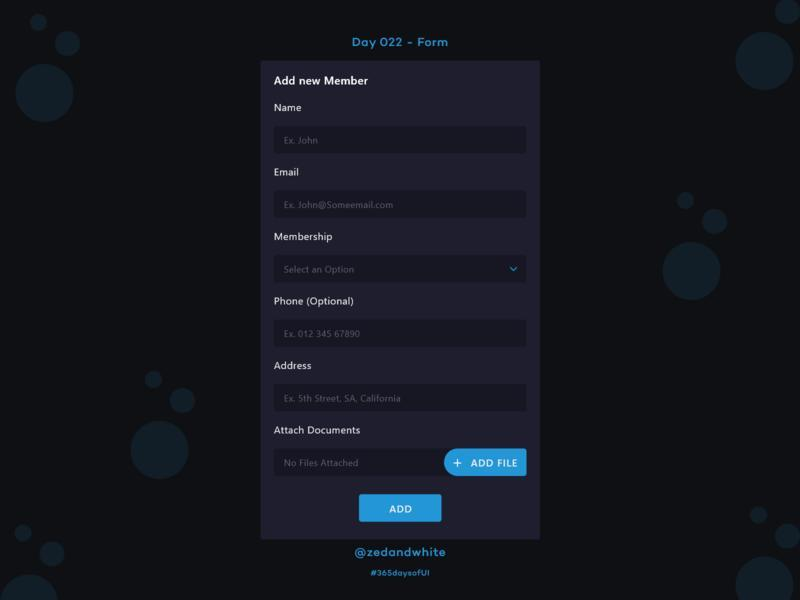button: (361, 494, 441, 524), (446, 449, 529, 477)
dropdown: (276, 258, 526, 286)
input: (269, 127, 526, 158), (275, 191, 526, 221), (276, 384, 529, 413), (275, 321, 526, 349), (274, 448, 444, 478)
label: (272, 290, 355, 315), (269, 71, 371, 91), (271, 424, 366, 444), (269, 233, 334, 249), (272, 357, 317, 376), (269, 165, 304, 188), (274, 104, 309, 118)
